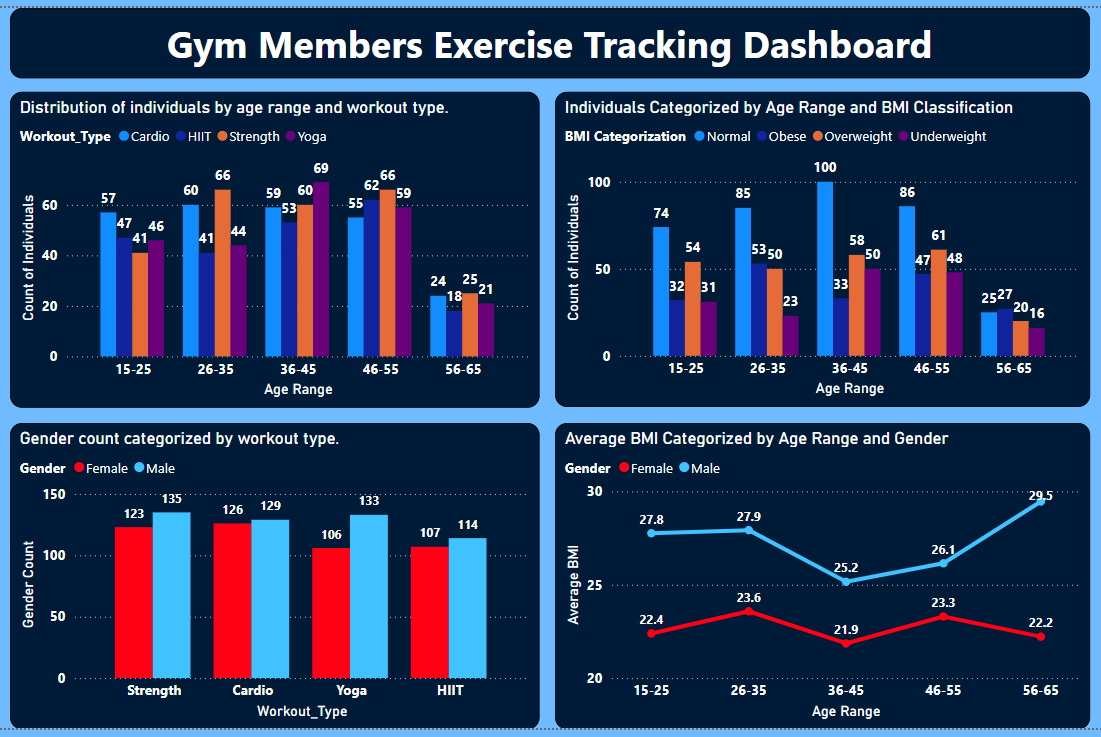

What the dashboard file says about the page in this screenshot:
{"tool":"powerbi","page":{"name":"Page 1","canvas":[1280,720],"ordinal":0},"visuals":[{"type":"clusteredColumnChart","title":"Distribution of individuals by age range and workout type.","fields":{"Category":["gym_members_exercise_tracking.Age Range"],"Series":["gym_members_exercise_tracking.Workout_Type"],"Y":["CountNonNull(gym_members_exercise_tracking.Age)"]},"box":[94.7,83.7,529.7,315.6],"z":0},{"type":"clusteredColumnChart","title":"Gender count categorized by workout type.","fields":{"Category":["gym_members_exercise_tracking.Workout_Type"],"Series":["gym_members_exercise_tracking.Gender"],"Y":["CountNonNull(gym_members_exercise_tracking.Age)"]},"box":[94.7,414.4,529.7,306],"z":1000},{"type":"lineChart","title":"Average BMI Categorized by Age Range and Gender","fields":{"Y":["Avg(gym_members_exercise_tracking.BMI)"],"Category":["gym_members_exercise_tracking.Age Range"],"Series":["gym_members_exercise_tracking.Gender"]},"box":[639.5,414.4,535.2,306],"z":2000},{"type":"textbox","box":[95,0,1080,70],"z":3000},{"type":"lineClusteredColumnComboChart","title":"Individuals Categorized by Age Range and BMI Classification","fields":{"Series":["gym_members_exercise_tracking.BMI Categorization"],"Category":["gym_members_exercise_tracking.Age Range"],"Y":["CountNonNull(gym_members_exercise_tracking.Count of Indivisuals)"]},"box":[640,83.8,535,315],"z":4000}]}

Visuals, with their boxes on the page's 1280x720 design canvas (x1, y1, x2, y2). These are canvas units, not pixel positions in the 1101x737 screenshot, which may show the page scaled, cropped or inside an application window:
"Distribution of individuals by age range and workout type." clusteredColumnChart: (left=95, top=84, right=624, bottom=399)
"Gender count categorized by workout type." clusteredColumnChart: (left=95, top=414, right=624, bottom=720)
"Average BMI Categorized by Age Range and Gender" lineChart: (left=640, top=414, right=1175, bottom=720)
textbox: (left=95, top=0, right=1175, bottom=70)
"Individuals Categorized by Age Range and BMI Classification" lineClusteredColumnComboChart: (left=640, top=84, right=1175, bottom=399)
